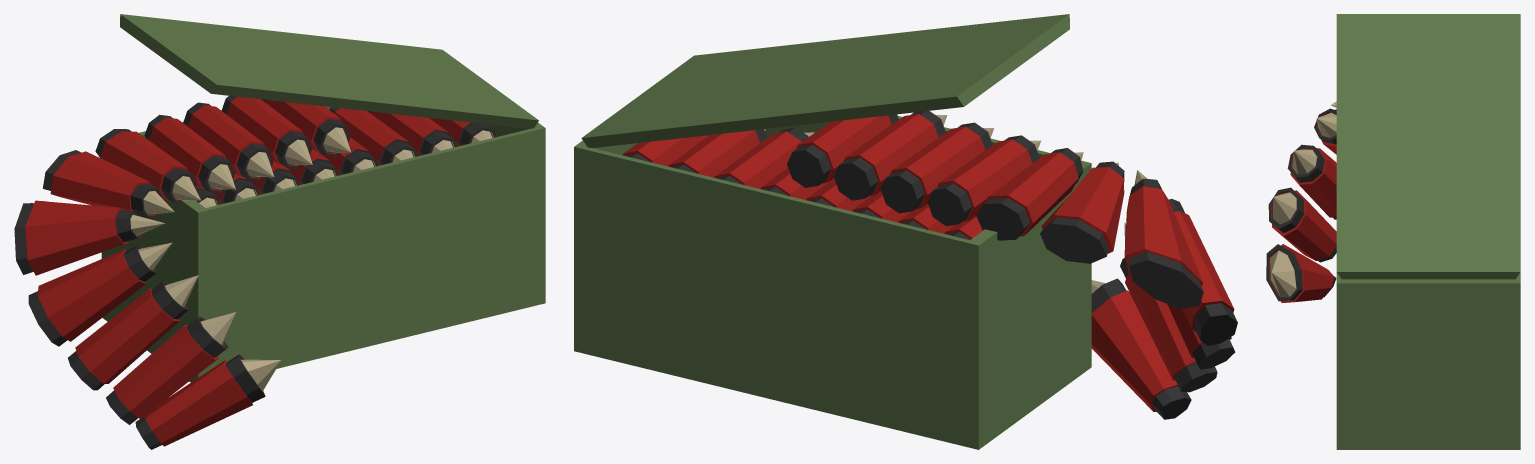
File: AmmoBox.fbx
3 renders of one model, left to right at view 1: azimuth 30°, elevation 25°; view 2: azimuth 150°, elevation 25°; view 3: azimuth 270°, elevation 25°, orthographic. The views are drawn at different scales.
Parts seen in each view (by area): view 1: box, ammo1, ammo2; view 2: box, ammo1, ammo2; view 3: box, ammo1.
Part boxes in pixels (x1,y1,x2,y2): box: (101,14,545,382); ammo1: (14,96,351,449); ammo2: (196,107,496,207); box: (574,14,1091,449); ammo1: (787,111,1237,419); ammo2: (622,127,982,239); box: (1336,14,1520,449); ammo1: (1266,101,1336,302).
Size of the model in its own units: 585 by 384 by 277.
